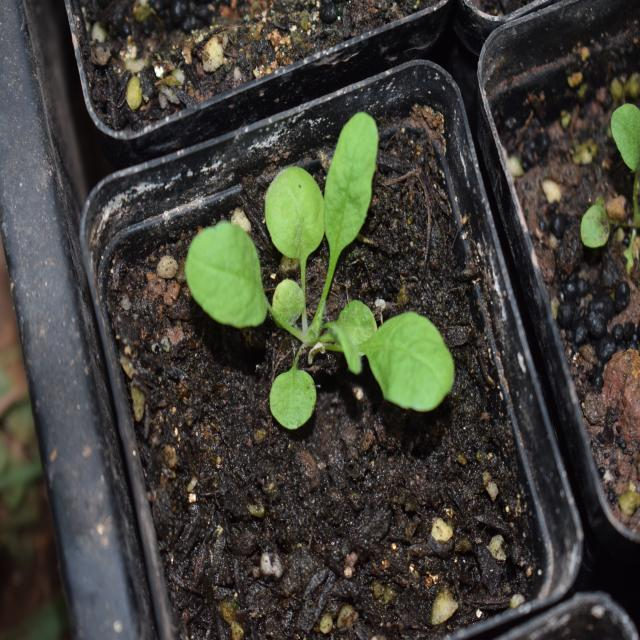Shepherd_Purse: (180, 68, 460, 435)
